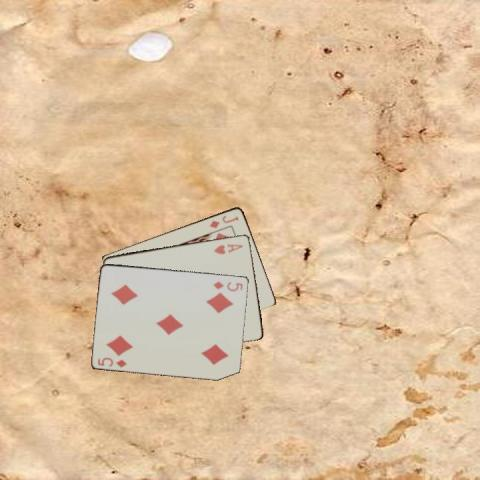5d: (95, 354, 128, 369), (210, 278, 244, 292)
Ah: (210, 240, 244, 255)
Jd: (207, 212, 240, 229)
